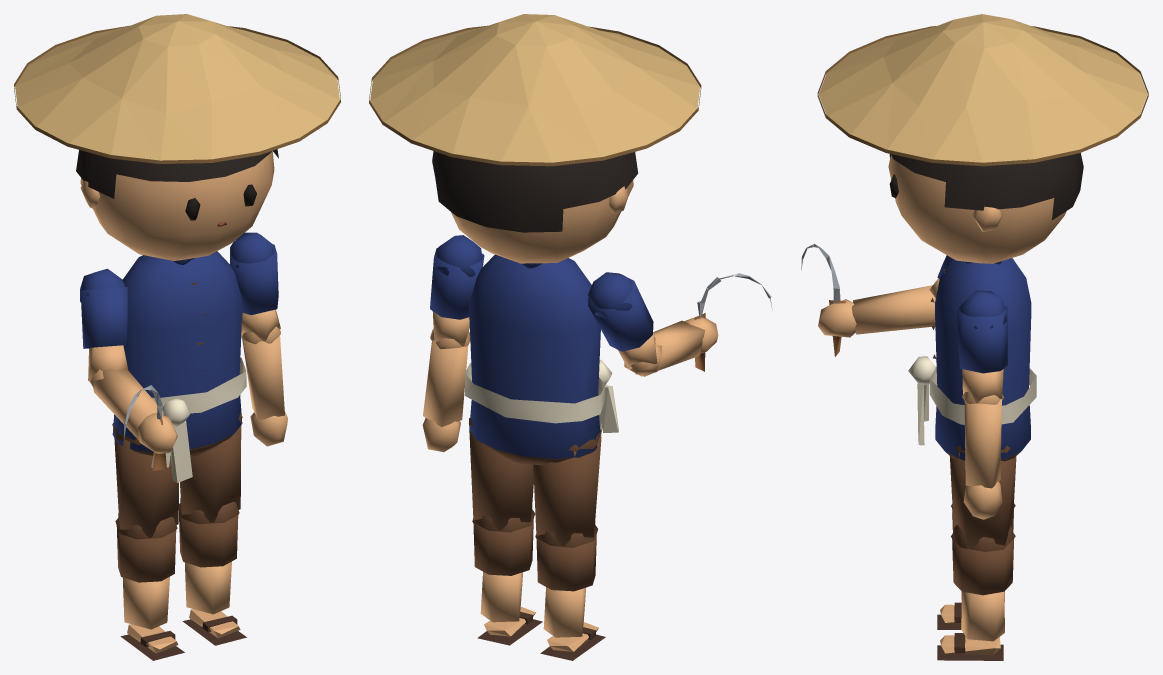
The model's file is era1_farmer_sickle.glb.
3 renders of one model, left to right at view 1: azimuth 30°, elevation 25°; view 2: azimuth 150°, elevation 25°; view 3: azimuth 270°, elevation 25°, orthographic.
Parts seen in each view (by area): view 1: head, body, shin_R, shin_L, leg_R, arm_R, arm_L, leg_L, forearm_L, forearm_R, prop_sickle; view 2: head, body, shin_L, shin_R, leg_R, leg_L, arm_R, arm_L, forearm_L, forearm_R, prop_sickle; view 3: head, body, shin_L, arm_L, forearm_R, forearm_L, leg_L, shin_R, prop_sickle.
Boxes of the visible parts, x1,y1,x2,y2 form: head: (14,14,340,260); body: (112,251,246,482); shin_R: (116,513,184,660); shin_L: (179,498,246,645); leg_R: (112,423,178,539); arm_R: (80,268,128,386); arm_L: (230,232,280,344); leg_L: (178,413,242,524); forearm_L: (242,332,287,446); forearm_R: (91,368,177,453); prop_sickle: (124,385,166,470); head: (369,14,701,263); body: (465,254,618,465); shin_L: (473,506,542,645); shin_R: (536,522,605,660); leg_R: (533,429,601,547); leg_L: (469,418,534,532); arm_R: (588,272,662,376); arm_L: (430,235,484,349); forearm_L: (422,332,469,452); forearm_R: (631,315,718,376); prop_sickle: (694,273,772,371); head: (817,14,1148,263); body: (908,258,1036,461); shin_L: (937,524,1014,660); arm_L: (957,290,1007,404); forearm_R: (818,285,935,337); forearm_L: (962,392,1002,519); leg_L: (950,445,1016,552); shin_R: (937,508,1014,629); prop_sickle: (801,243,845,356).
Size of the model in its own units: 0.7839 by 1.6 by 0.8186.
